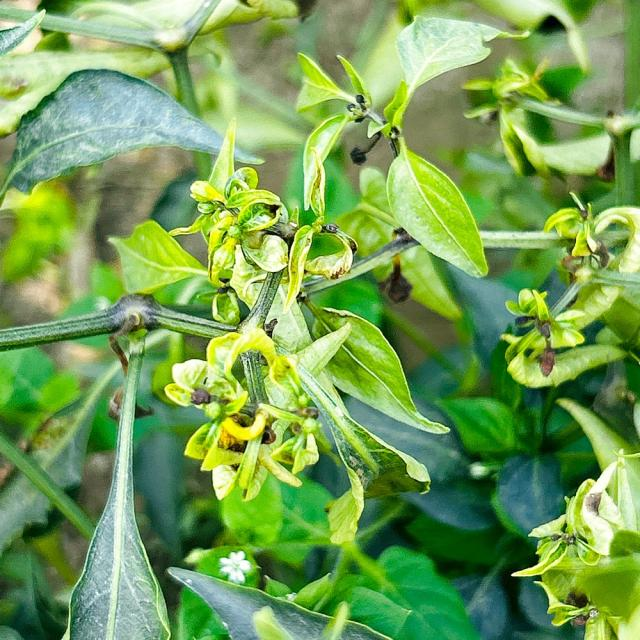Chilli_Leaf_Curl: (1, 2, 638, 638), (107, 120, 450, 545), (295, 13, 523, 280), (288, 302, 450, 544), (1, 67, 263, 201), (64, 324, 171, 638), (510, 449, 639, 638), (302, 302, 450, 435), (380, 13, 526, 134), (165, 564, 395, 638), (0, 0, 309, 54), (384, 139, 490, 279), (501, 286, 587, 382), (105, 218, 210, 296), (294, 50, 387, 137)
